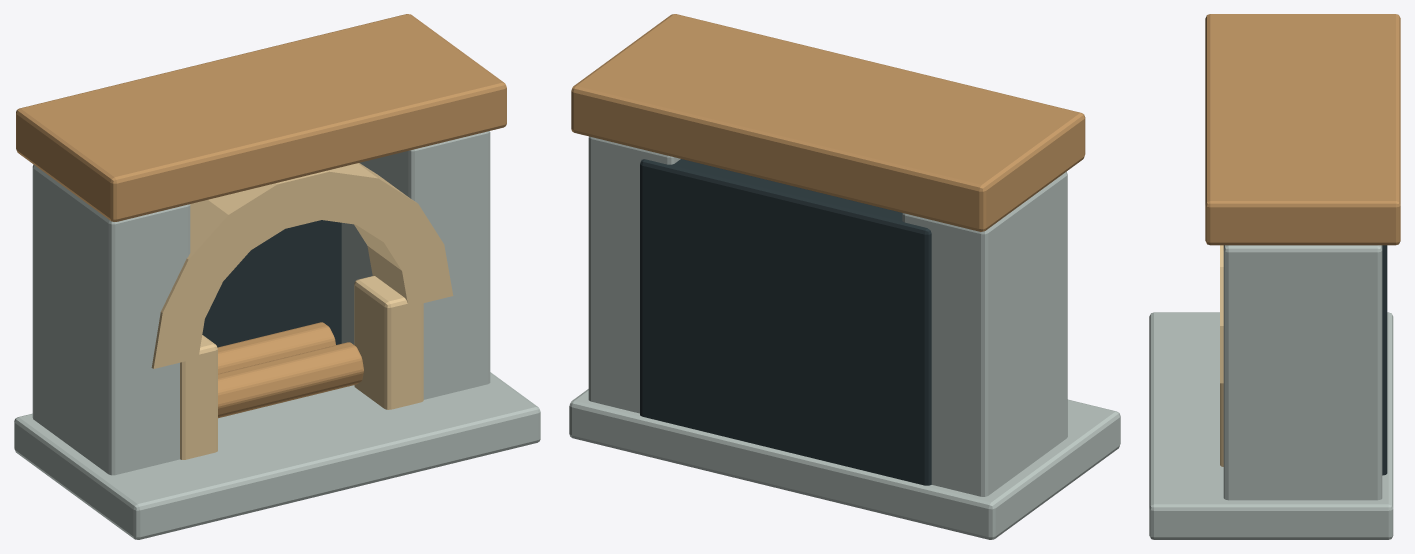
The model's file is S021_scenic_fireplace.glb.
3 renders of one model, left to right at view 1: azimuth 30°, elevation 25°; view 2: azimuth 150°, elevation 25°; view 3: azimuth 270°, elevation 25°, orthographic. The views are drawn at different scales.
Parts seen in each view (by area): view 1: mantel, hearth, fireplace_side, fireplace_side.001, fireplace_back, inner_arch_base.001, fake_log, inner_arch_base, fire_arch_06, fake_log.001, fire_arch_00, fire_arch_05 (+6 smaller); view 2: fireplace_back, mantel, fireplace_side, hearth, fireplace_side.001; view 3: mantel, fireplace_side.001, hearth, fireplace_back, inner_arch_base.001.
Part boxes in pixels (x1=…): mantel: x1=16, y1=14, x2=506, y2=221; hearth: x1=14, y1=372, x2=540, y2=539; fireplace_side: x1=32, y1=164, x2=190, y2=475; fireplace_side.001: x1=341, y1=131, x2=490, y2=399; fireplace_back: x1=202, y1=220, x2=341, y2=347; inner_arch_base.001: x1=354, y1=276, x2=423, y2=409; fake_log: x1=218, y1=342, x2=363, y2=418; inner_arch_base: x1=180, y1=335, x2=217, y2=459; fire_arch_06: x1=187, y1=200, x2=250, y2=281; fake_log.001: x1=217, y1=322, x2=335, y2=373; fire_arch_00: x1=367, y1=245, x2=453, y2=303; fire_arch_05: x1=208, y1=183, x2=285, y2=249; fireplace_back: x1=640, y1=159, x2=931, y2=485; mantel: x1=571, y1=14, x2=1085, y2=231; fireplace_side: x1=902, y1=171, x2=1067, y2=496; hearth: x1=569, y1=389, x2=1120, y2=539; fireplace_side.001: x1=588, y1=136, x2=680, y2=413; mantel: x1=1205, y1=14, x2=1400, y2=245; fireplace_side.001: x1=1223, y1=245, x2=1382, y2=500; hearth: x1=1149, y1=312, x2=1393, y2=539; fireplace_back: x1=1382, y1=245, x2=1387, y2=475; inner_arch_base.001: x1=1220, y1=383, x2=1223, y2=466.
Size of the model in its own units: 1.9 by 1.52 by 1.03.
